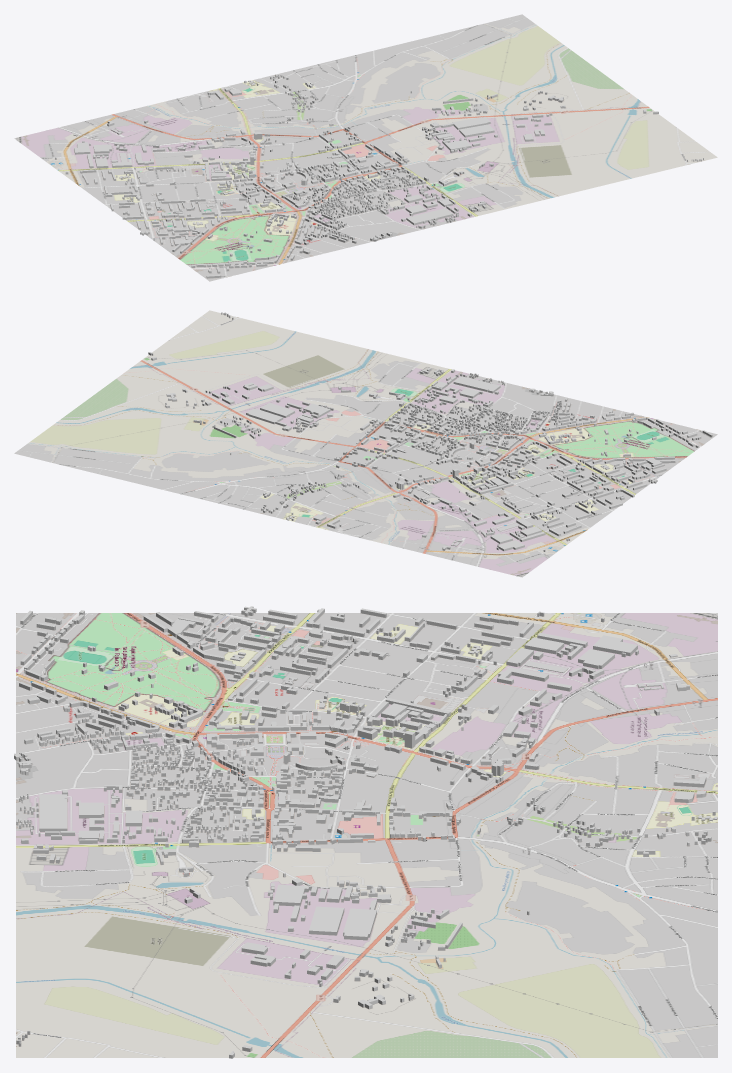
Rendered from fullmap.glb.
The picture shows the model from 3 angles, top to bottom: view 1: azimuth 30°, elevation 25°; view 2: azimuth 150°, elevation 25°; view 3: azimuth 270°, elevation 25°; orthographic projection. The views are drawn at different scales.
Parts seen in each view (by area): view 1: EXPORT_OSM_MAPNIK_WM, Areas:building; view 2: EXPORT_OSM_MAPNIK_WM, Areas:building; view 3: EXPORT_OSM_MAPNIK_WM, Areas:building.
Part boxes in pixels (bbox=[...]): EXPORT_OSM_MAPNIK_WM: bbox=[14, 14, 717, 281]; Areas:building: bbox=[55, 74, 703, 278]; EXPORT_OSM_MAPNIK_WM: bbox=[14, 310, 717, 577]; Areas:building: bbox=[148, 312, 712, 557]; EXPORT_OSM_MAPNIK_WM: bbox=[16, 613, 717, 1057]; Areas:building: bbox=[14, 606, 717, 1058].
Bounding box in the file's own units: 5556 × 96.77 × 3680.
18 materials, 1 textured.
